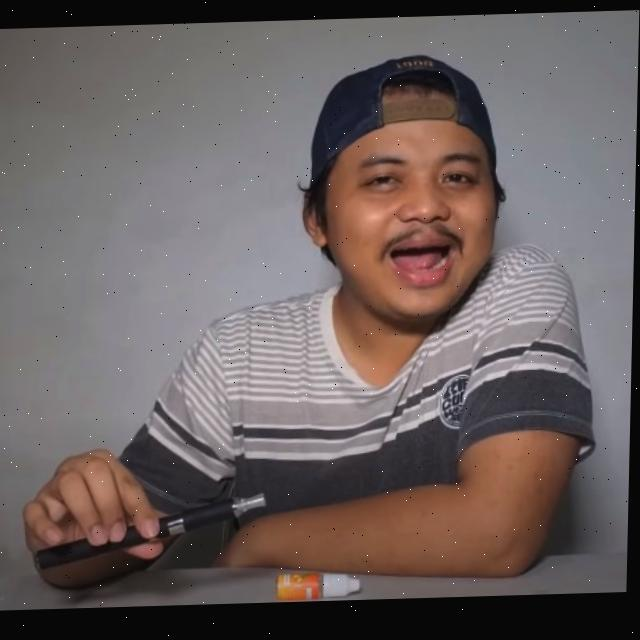vape: (36, 494, 269, 573)
